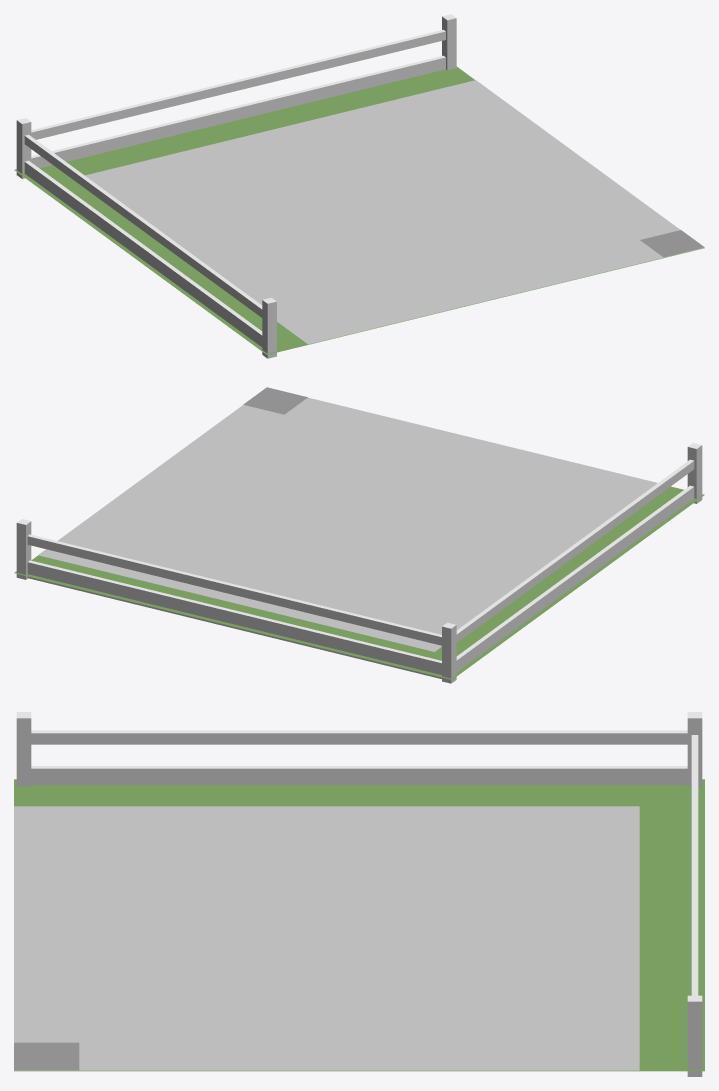
Rendered from tile_for_home_1x1_014.fbx.
The picture shows the model from 3 angles, top to bottom: view 1: azimuth 30°, elevation 25°; view 2: azimuth 150°, elevation 25°; view 3: azimuth 270°, elevation 25°; orthographic projection. The views are drawn at different scales.
Visible parts, largest first — view 1: tile_for_home_1x1_014; view 2: tile_for_home_1x1_014; view 3: tile_for_home_1x1_014.
Part boxes in pixels (<box>): tile_for_home_1x1_014: <box>14,14,704,358</box>; tile_for_home_1x1_014: <box>14,387,704,683</box>; tile_for_home_1x1_014: <box>14,712,704,1076</box>.
Size of the model in its own units: 800 by 95.9 by 800.
